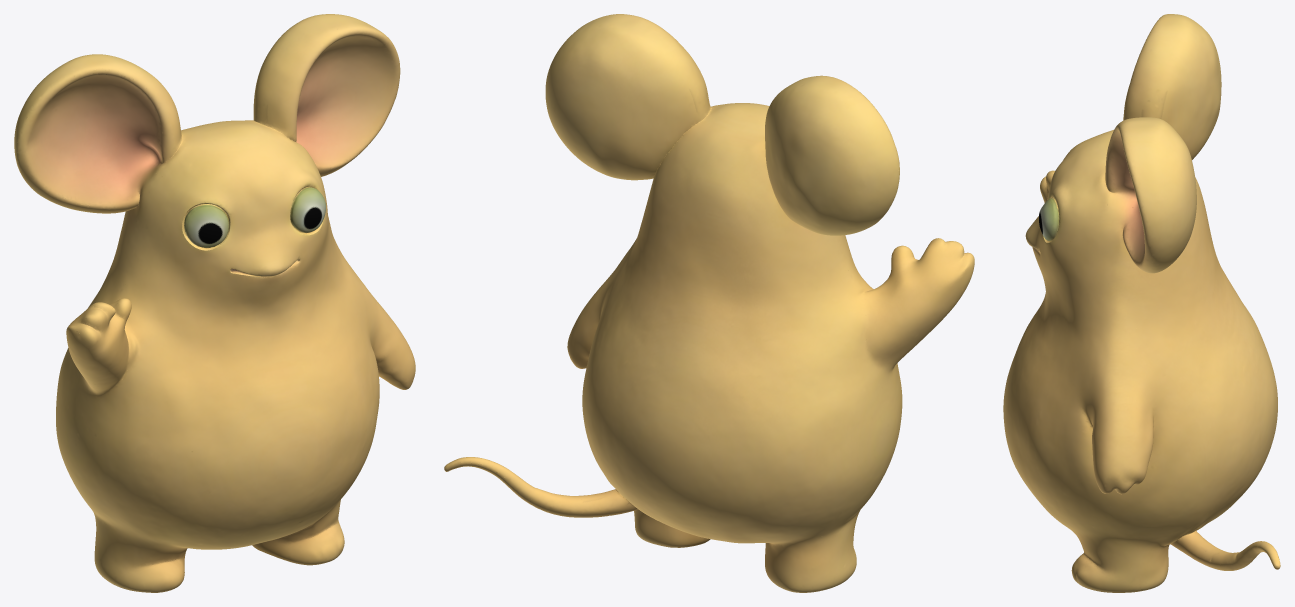
Rendered from naishu.glb.
3 views of the same model, side by side, from view 1: azimuth 30°, elevation 25°; view 2: azimuth 150°, elevation 25°; view 3: azimuth 270°, elevation 25° (orthographic). The views are drawn at different scales.
Parts seen in each view (by area): view 1: naishu_Rodin_Complete; view 2: naishu_Rodin_Complete; view 3: naishu_Rodin_Complete.
Boxes of the visible parts, x1,y1,x2,y2 form: naishu_Rodin_Complete: [14, 14, 415, 592]; naishu_Rodin_Complete: [444, 14, 974, 592]; naishu_Rodin_Complete: [1003, 14, 1280, 592].
Bounding box in the file's own units: 1.59 × 1.9 × 0.9973.
1 material, 1 textured.
